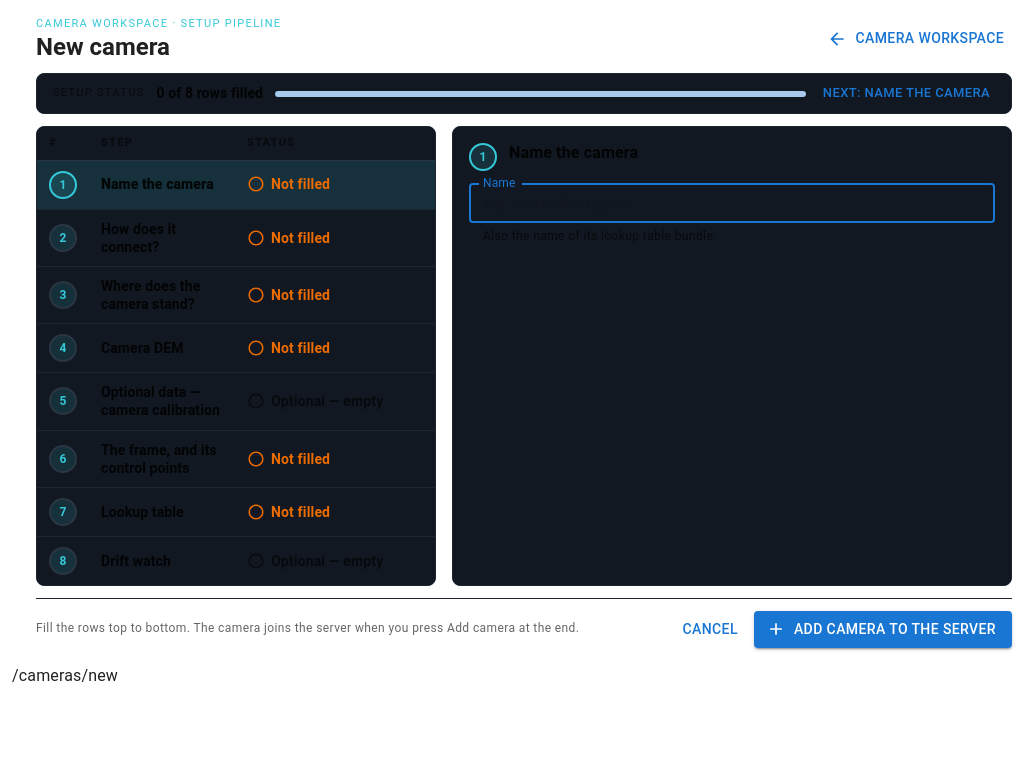
Scenario: a NEW camera › ★ reads as seven steps, every one open, with ONE button at the end
Expected: the heading "Name the camera" is shown, [101,176,223,194]
Expected: the heading "How does it connect?" is shown, [101,220,176,255]
Click the heading "Camera DEM": click(142, 348) [101,340,184,356]
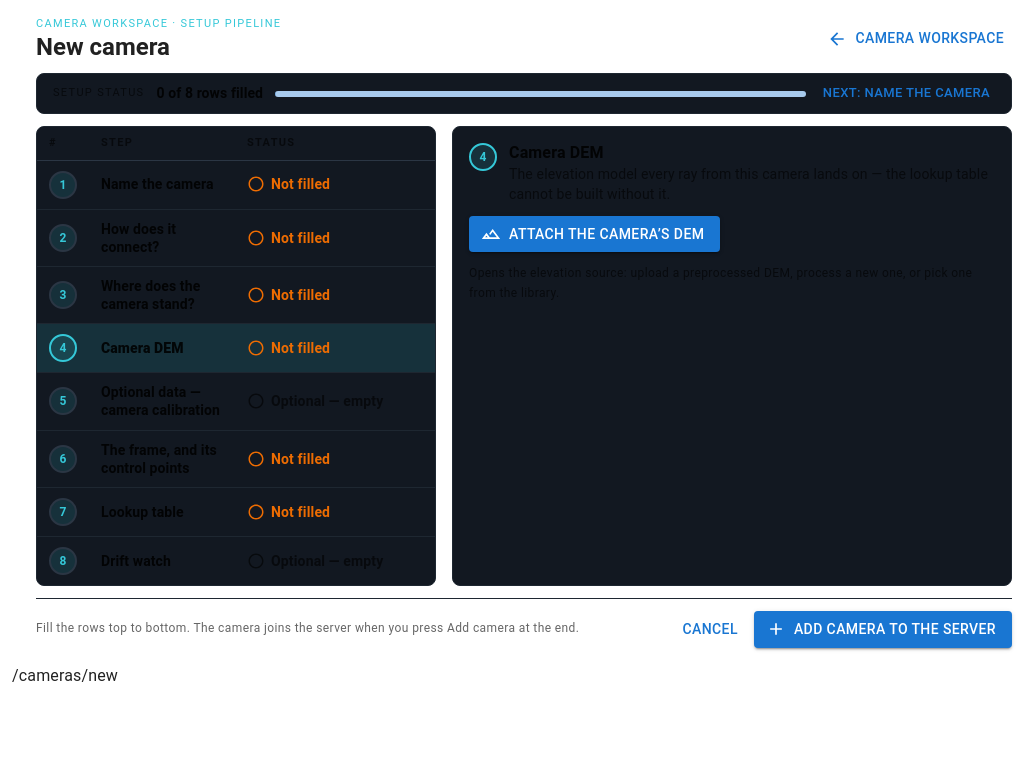
Result: the button "Attach the camera’s DEM" is enabled at [469,216,720,252]
Click the heading "The frame, and its control points": click(162, 459) [101,441,223,477]
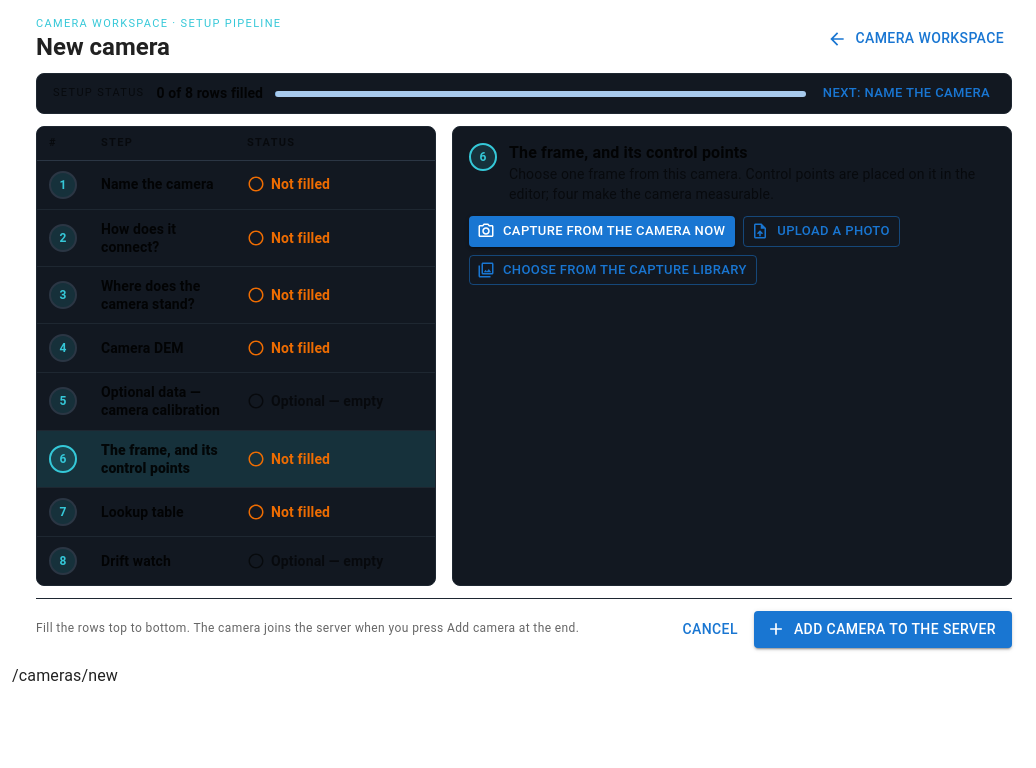
Expected: the number of buttons "Add camera to the server" is 1, [754,611,1012,648]
Result: the button "Capture from the camera now" is enabled at [469,216,735,247]
Click the heading "How does it connect?": click(139, 238) [101,220,176,255]
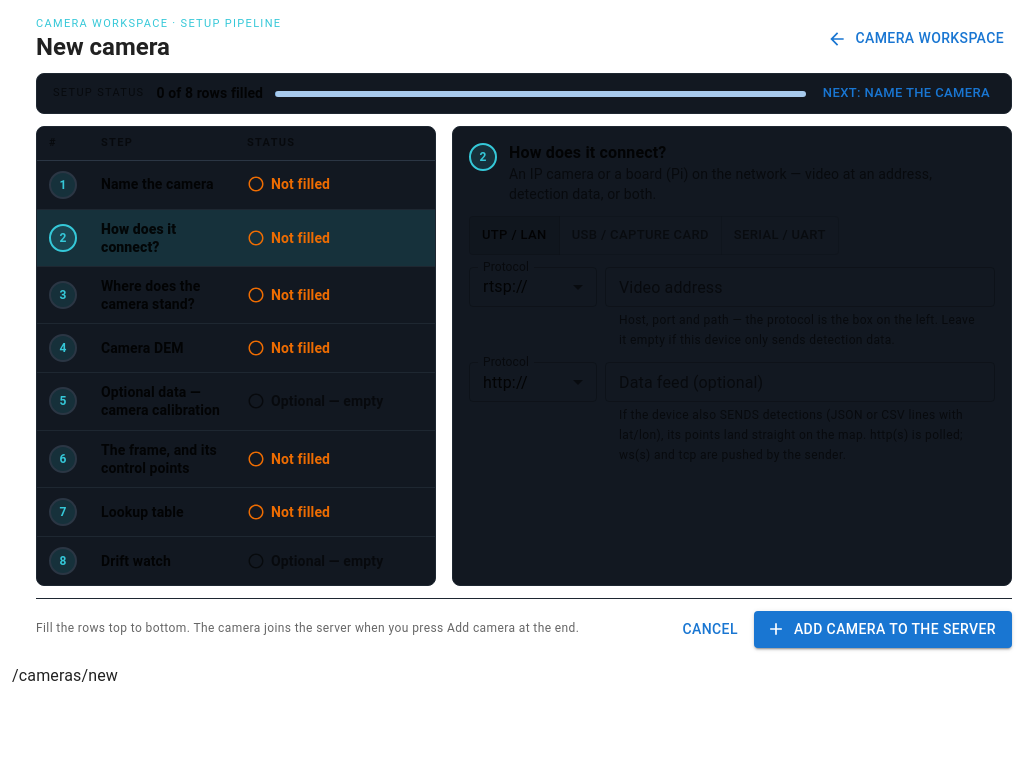
Result: the button "UTP / LAN" is shown at [469,216,560,255]
